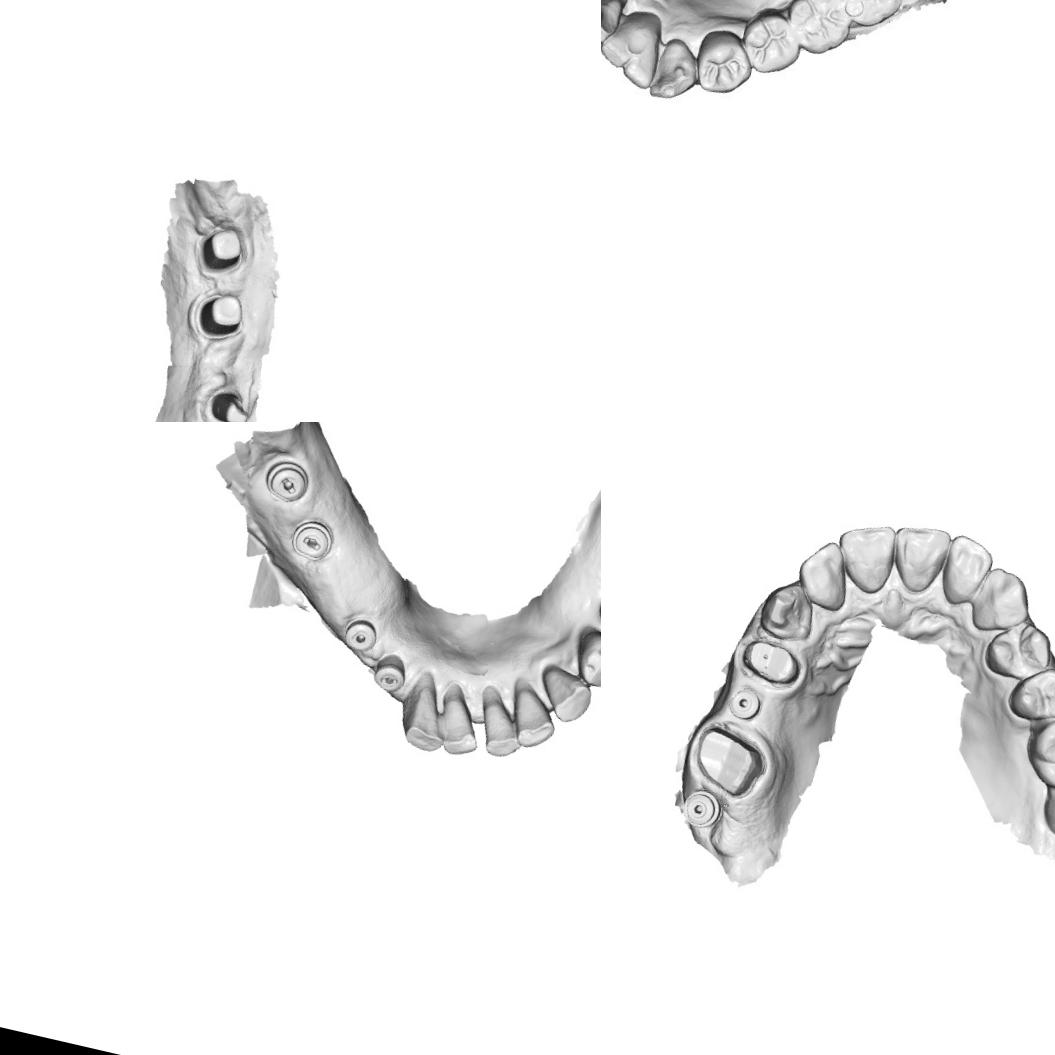abutment: (192, 284, 250, 346), (197, 218, 250, 277), (206, 383, 257, 422)
canine: (966, 562, 1041, 643), (754, 574, 824, 648), (531, 660, 598, 728), (650, 30, 702, 107)
crown: (686, 719, 774, 805), (736, 634, 809, 690)
implant: (678, 786, 724, 832), (338, 611, 383, 656), (724, 683, 768, 725)
implant_minus: (258, 454, 314, 507), (285, 513, 339, 565), (369, 651, 411, 698)
incisor: (826, 514, 902, 600), (883, 518, 954, 600), (790, 534, 860, 616), (934, 530, 998, 614), (502, 684, 564, 754), (397, 682, 453, 756), (431, 692, 488, 760), (472, 698, 530, 762), (615, 32, 664, 94), (601, 8, 644, 70), (601, 0, 628, 41)
molar: (740, 5, 804, 80), (782, 0, 858, 60), (1017, 697, 1055, 798), (831, 0, 909, 36), (1035, 761, 1055, 852)
premolar: (978, 612, 1055, 689), (690, 24, 757, 98), (1002, 657, 1055, 732), (566, 623, 601, 694)
